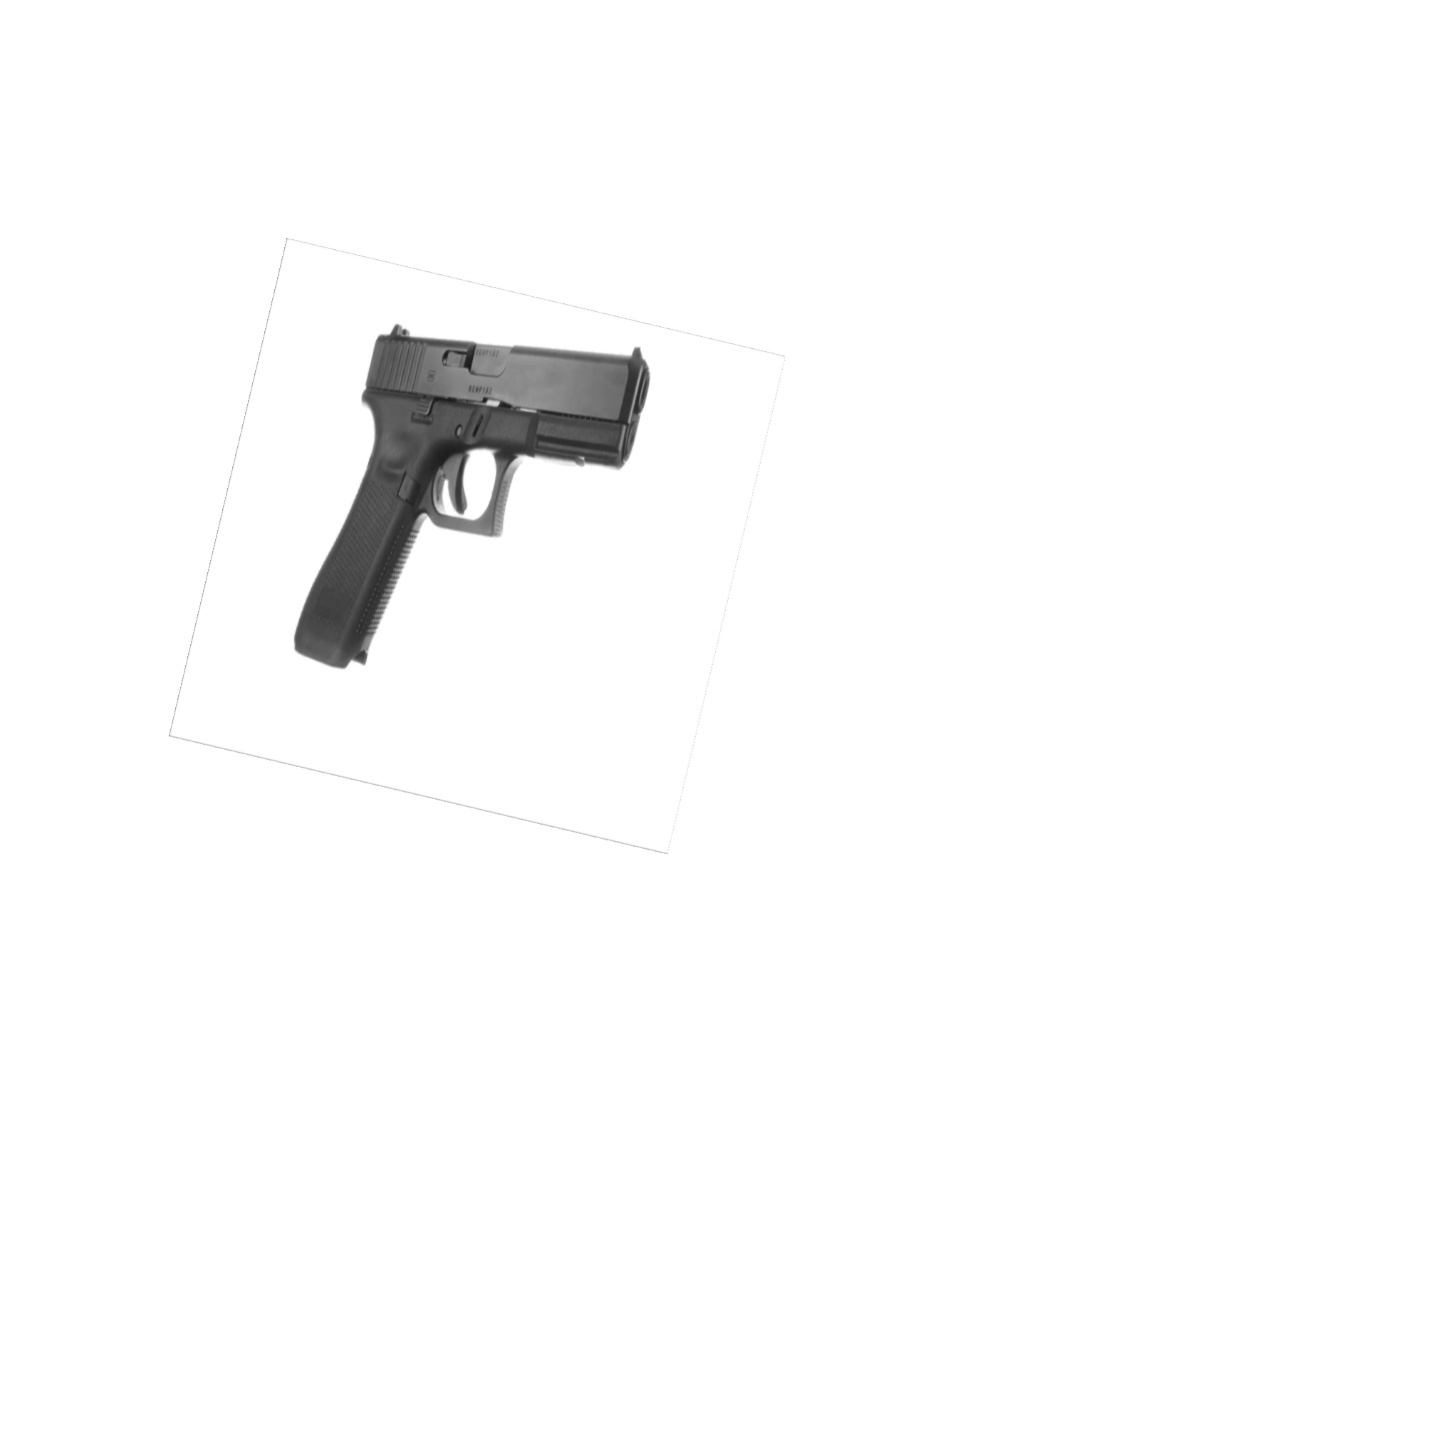gun: (280, 312, 679, 697)
